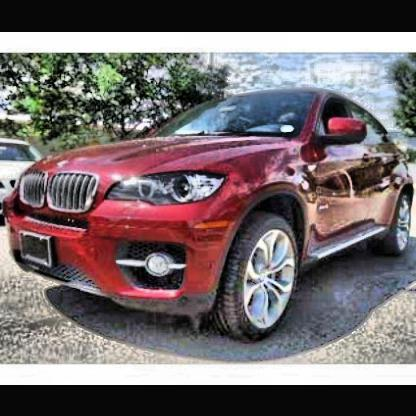BMW X6 SUV 2012: (5, 88, 416, 346)
